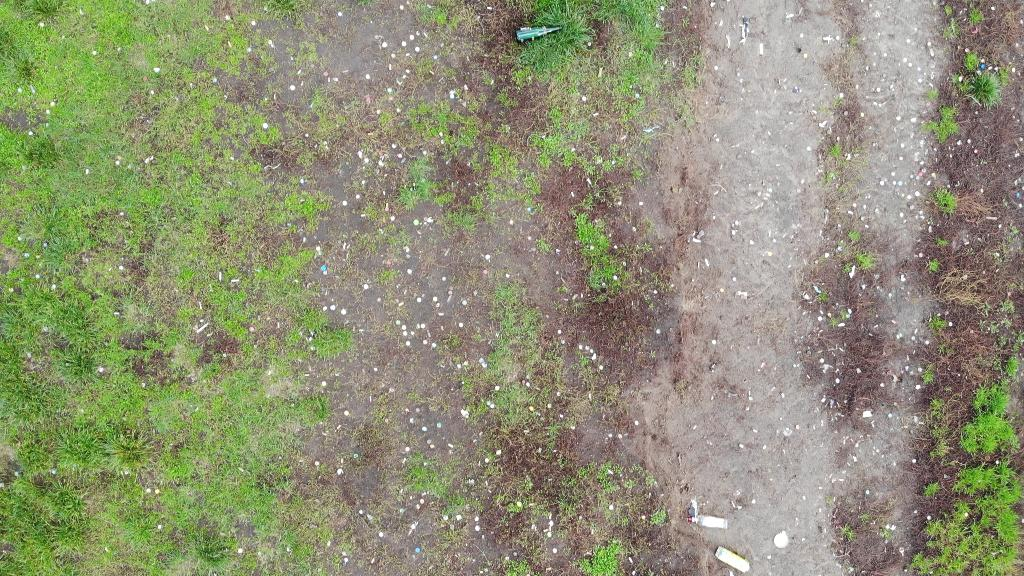garbage: (517, 19, 565, 44), (681, 512, 730, 533)
